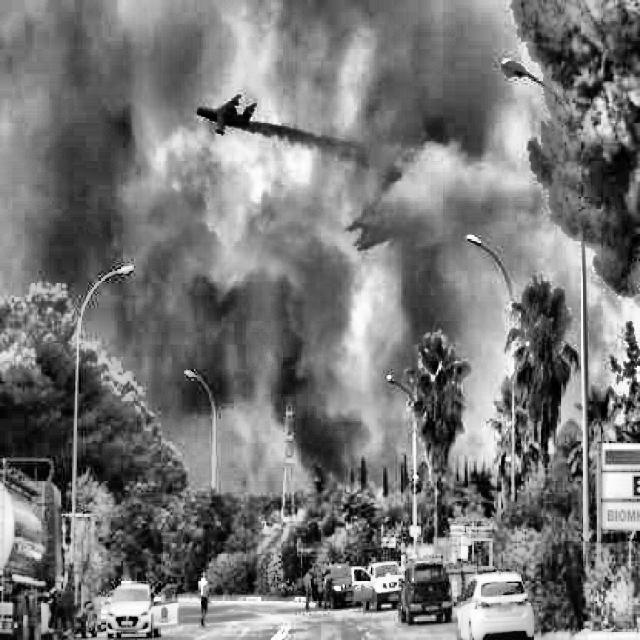Be200: (195, 96, 257, 136)
